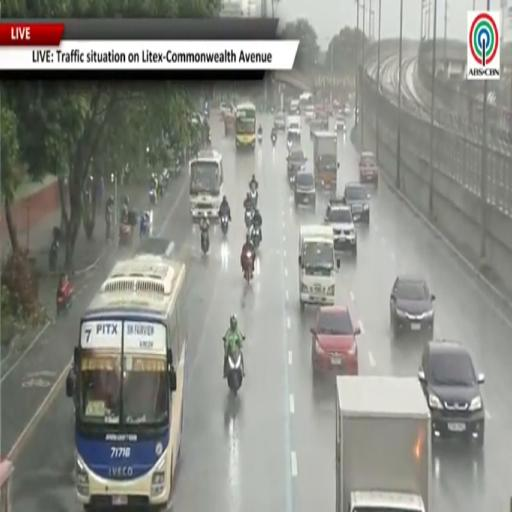bus: (66, 255, 187, 509), (189, 150, 223, 220), (236, 103, 256, 149)
car: (419, 340, 485, 446), (311, 306, 360, 375), (390, 275, 435, 334), (324, 200, 357, 257), (343, 183, 370, 225), (294, 165, 315, 209), (136, 237, 174, 257), (358, 152, 379, 186), (287, 144, 306, 181), (310, 119, 323, 139), (316, 111, 329, 131), (274, 112, 285, 131), (220, 103, 235, 116), (335, 116, 346, 133), (305, 105, 315, 122), (343, 103, 351, 116)
motorcycle: (227, 348, 243, 394), (57, 284, 73, 316), (244, 251, 254, 284), (119, 223, 132, 246), (49, 239, 58, 271), (251, 226, 261, 249), (140, 216, 150, 237), (106, 208, 112, 241), (201, 230, 209, 254), (250, 186, 258, 209), (221, 216, 229, 235), (149, 187, 157, 206), (245, 210, 253, 229), (289, 171, 296, 186), (271, 134, 276, 147), (287, 139, 292, 151), (258, 134, 262, 143)
truck: (336, 376, 431, 511), (313, 132, 338, 189)
